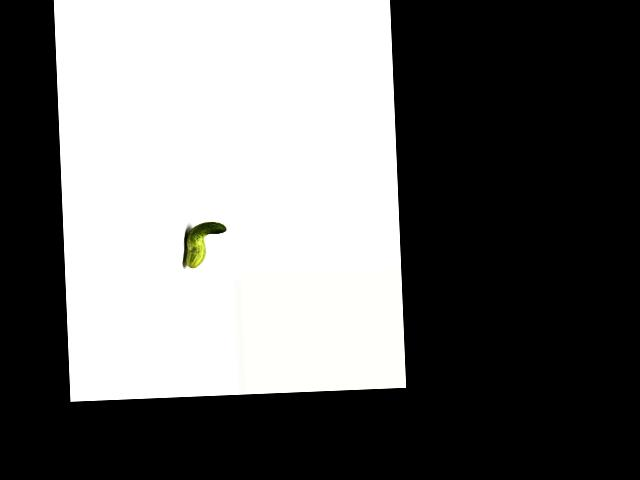cucumber: (183, 220, 227, 268)
